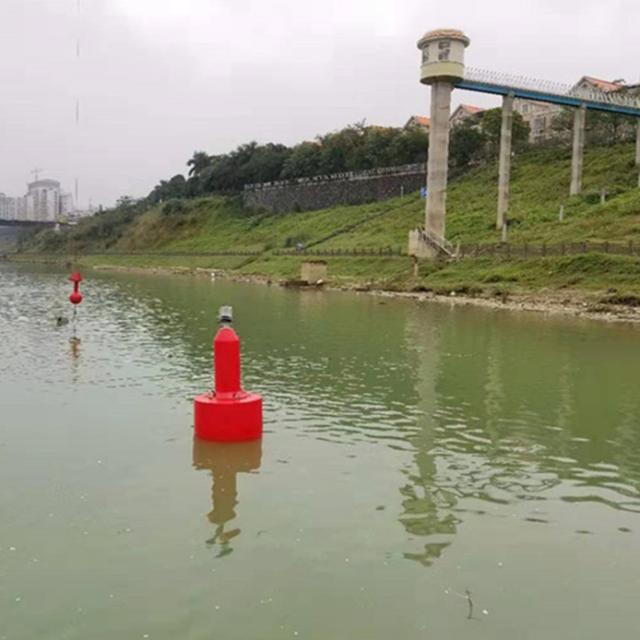buoy: (194, 300, 269, 439)
